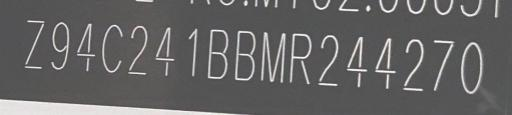letter: (257, 28, 291, 87), (456, 39, 490, 96), (368, 36, 402, 91), (230, 27, 262, 84), (98, 20, 130, 75), (338, 35, 372, 86), (202, 26, 230, 85), (315, 33, 343, 92), (428, 36, 456, 95), (46, 17, 76, 72), (288, 32, 318, 87), (401, 35, 429, 92), (150, 23, 178, 78), (20, 16, 46, 71), (124, 23, 150, 78), (181, 26, 205, 79), (73, 21, 97, 72)
